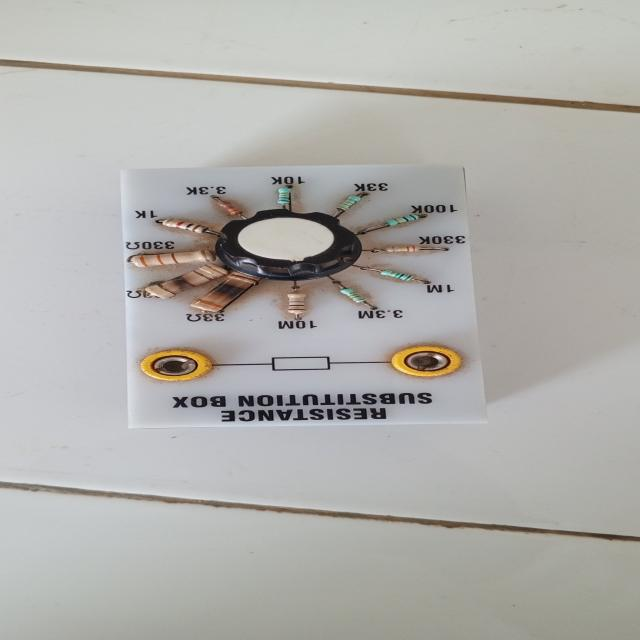Set of Resistances: (72, 149, 553, 449)
